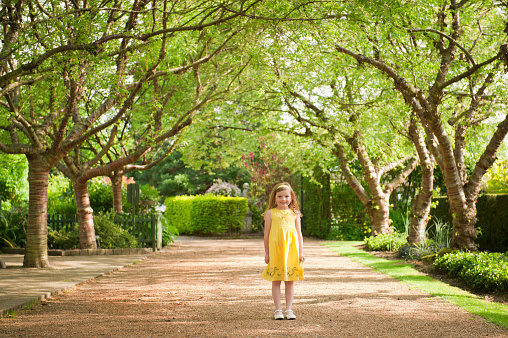em pe: (251, 179, 303, 317)
